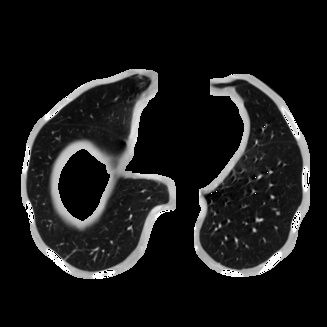PN: (276, 211, 280, 215)
